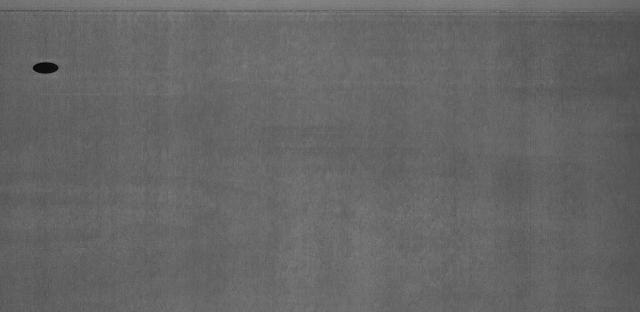punching_hole: (28, 59, 63, 76)
welding_line: (0, 2, 639, 22)
